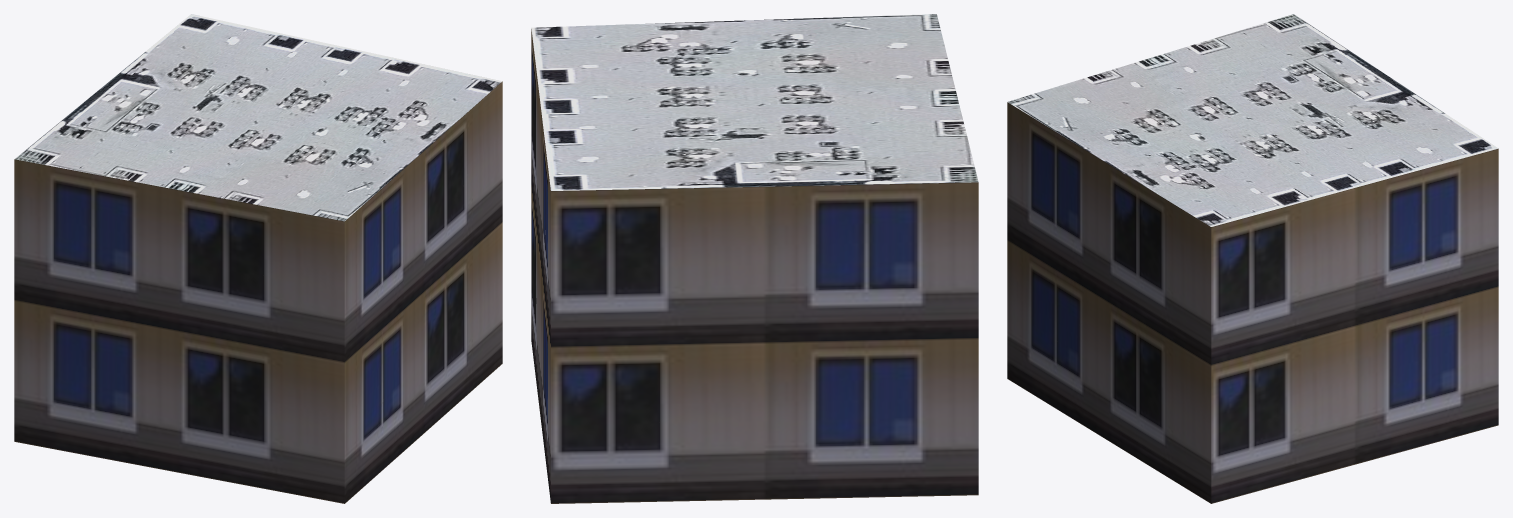
The model's file is ResTex__1484.fbx.
3 views of the same model, side by side, from view 1: azimuth 30°, elevation 25°; view 2: azimuth 150°, elevation 25°; view 3: azimuth 270°, elevation 25° (orthographic). The views are drawn at different scales.
Parts seen in each view (by area): view 1: CityEngineMaterial_5_m, CityEngineMaterial_m; view 2: CityEngineMaterial_5_m, CityEngineMaterial_m; view 3: CityEngineMaterial_5_m, CityEngineMaterial_m.
Boxes of the visible parts, <box> form: CityEngineMaterial_5_m: <box>14,81,502,503</box>; CityEngineMaterial_m: <box>15,14,501,221</box>; CityEngineMaterial_5_m: <box>531,29,978,503</box>; CityEngineMaterial_m: <box>531,14,978,190</box>; CityEngineMaterial_5_m: <box>1007,102,1498,503</box>; CityEngineMaterial_m: <box>1007,14,1498,226</box>.
Size of the model in its own units: 9.91 by 6 by 9.66.
2 materials, 2 textured.
